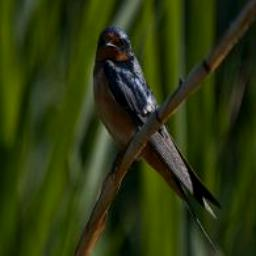Swallow: (93, 24, 226, 256)
